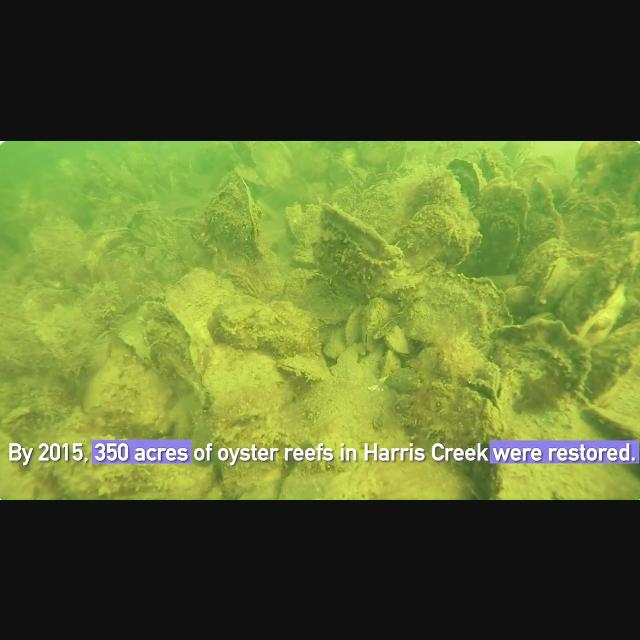Oyster-Closed: (386, 346, 503, 460), (398, 269, 510, 381), (34, 439, 216, 498), (493, 316, 591, 402), (203, 344, 291, 421), (191, 170, 261, 260), (138, 300, 201, 392), (394, 204, 480, 266), (165, 266, 235, 337), (100, 241, 165, 306), (208, 295, 273, 348), (30, 216, 86, 273), (579, 284, 626, 344), (476, 211, 520, 275), (516, 238, 573, 286), (479, 176, 530, 229), (406, 170, 469, 211), (535, 256, 580, 310), (600, 230, 639, 289), (581, 401, 639, 439), (361, 296, 398, 350), (84, 359, 121, 412), (146, 231, 188, 276), (448, 158, 486, 202), (128, 208, 169, 245), (465, 464, 500, 498), (505, 285, 536, 323), (59, 345, 90, 381), (89, 333, 111, 373), (345, 305, 366, 345), (323, 326, 346, 358), (384, 325, 410, 352)
Oyster-Open: (314, 203, 414, 297), (573, 140, 639, 211), (278, 354, 330, 380), (89, 226, 133, 254), (220, 269, 259, 297), (1, 405, 31, 432), (285, 446, 315, 461)
